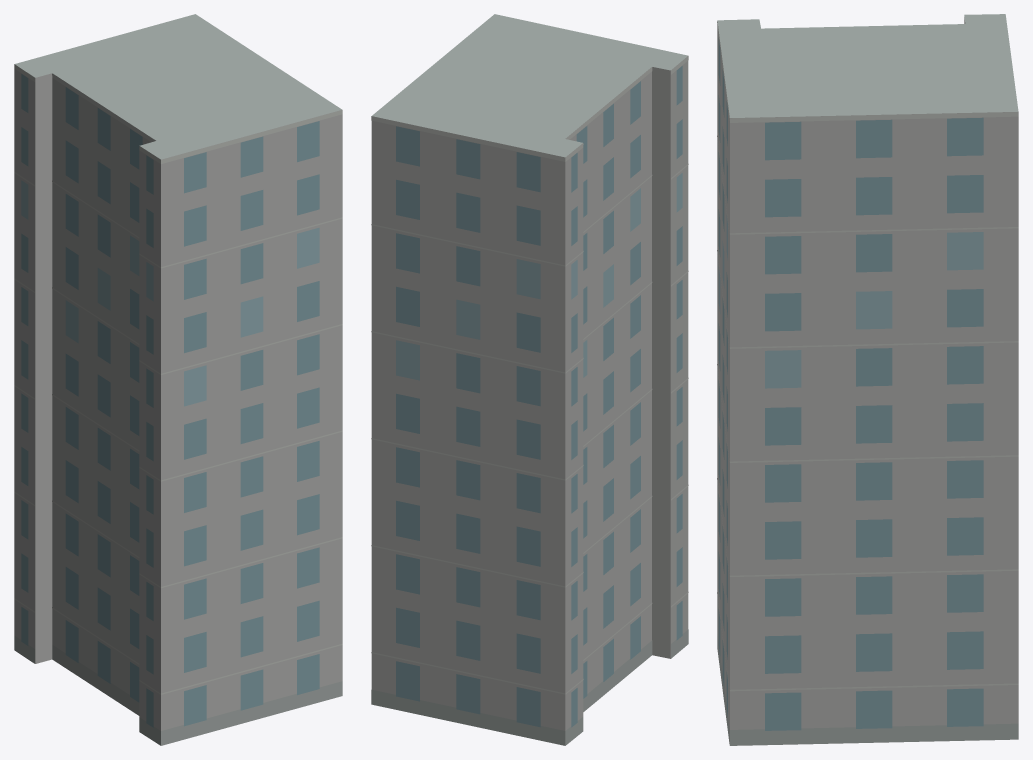
The model's file is survey-upis-32745735.glb.
3 renders of one model, left to right at view 1: azimuth 30°, elevation 25°; view 2: azimuth 150°, elevation 25°; view 3: azimuth 270°, elevation 25°, orthographic. The views are drawn at different scales.
Visible parts, largest first — view 1: survey-upis-32745735.tmp; view 2: survey-upis-32745735.tmp; view 3: survey-upis-32745735.tmp.
Part boxes in pixels (left/top/right/bottom): survey-upis-32745735.tmp: left=14, top=14, right=342, bottom=745; survey-upis-32745735.tmp: left=371, top=14, right=688, bottom=745; survey-upis-32745735.tmp: left=717, top=14, right=1018, bottom=745.
Size of the model in its own units: 11.2 by 31.4 by 13.68.
